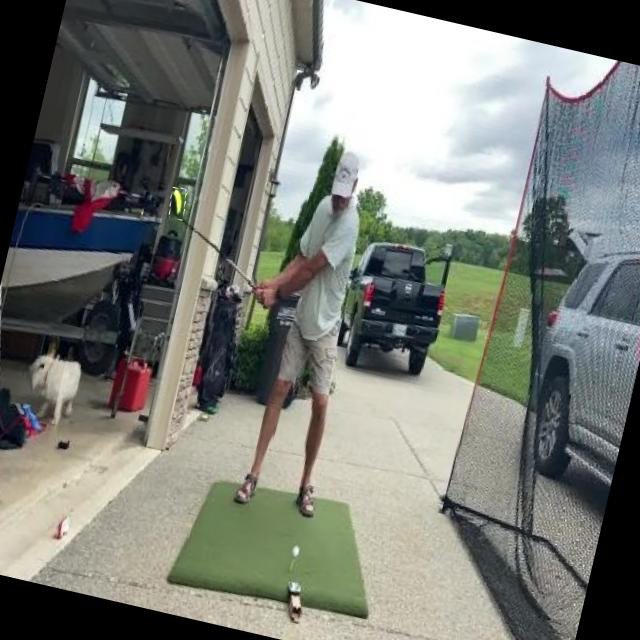club head: (166, 187, 188, 220)
